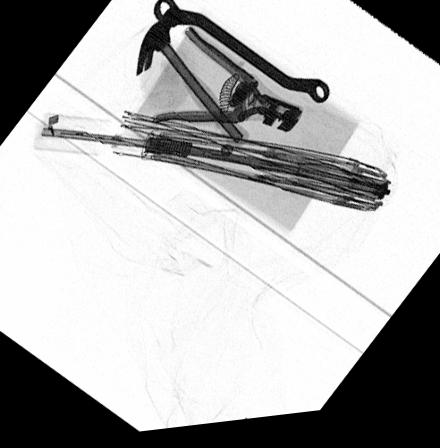Hammer: (134, 9, 249, 158)
Pliers: (145, 26, 302, 140)
Wrench: (150, 0, 333, 111)
